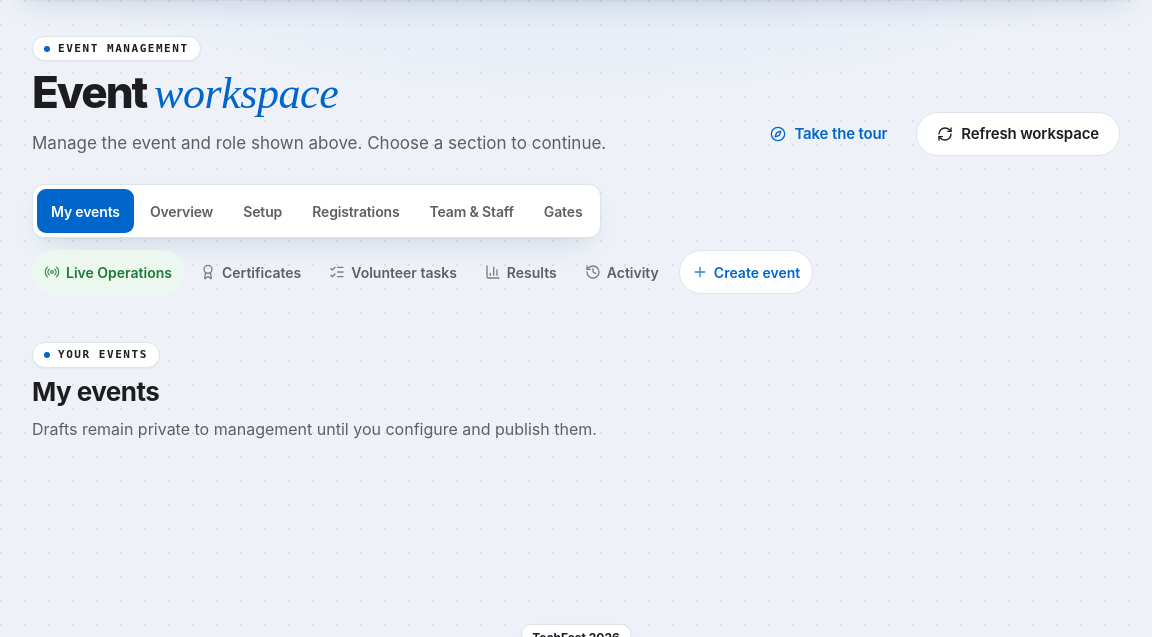
Test: P1-B workspace workflows › detects server changes on refresh, retains edits, and requires explicit review with the current version
Click the button "Setup".
click(263, 211)  # box 229,189 -> 296,233
(page scrolled)
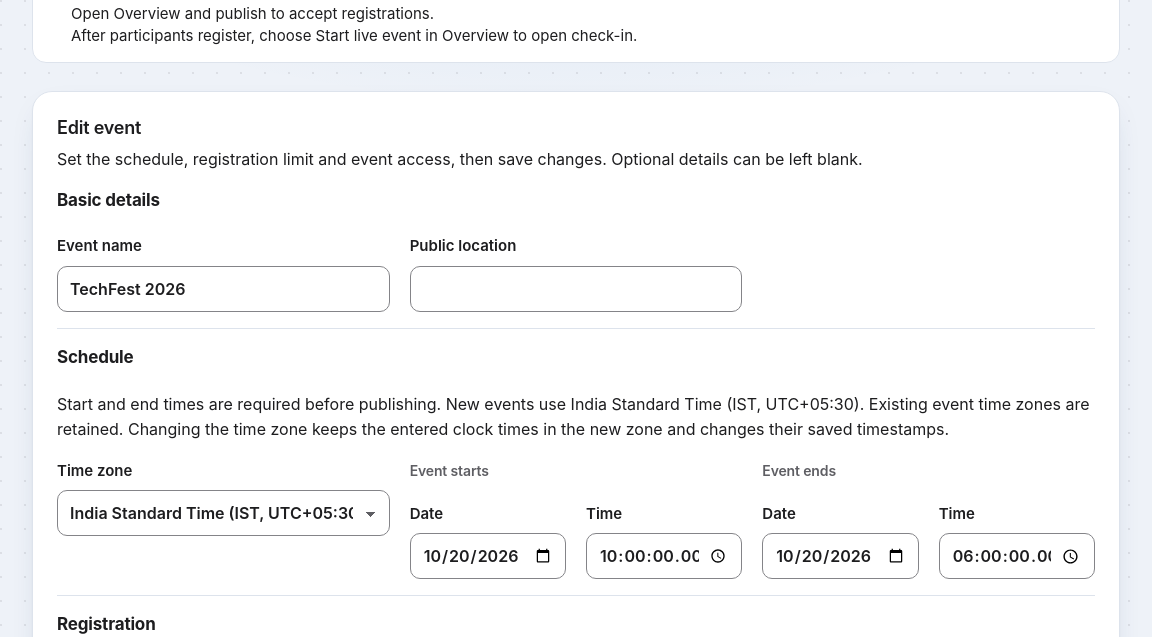
Replace the text in the field labelled "Event name" with "My edited event" at [223, 289], box 57,266 -> 390,312
(page scrolled)
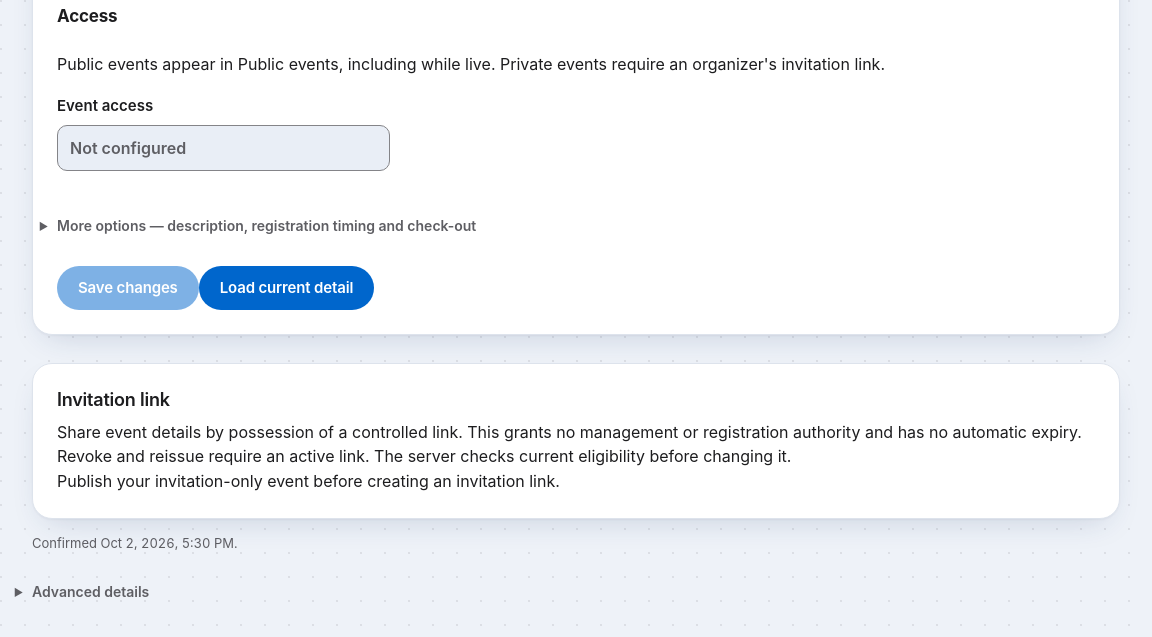
Result: the button "Save changes" is disabled at 57,266 -> 199,310
Click the button "Load current detail".
click(286, 288)  # box 199,266 -> 374,310
(page scrolled)
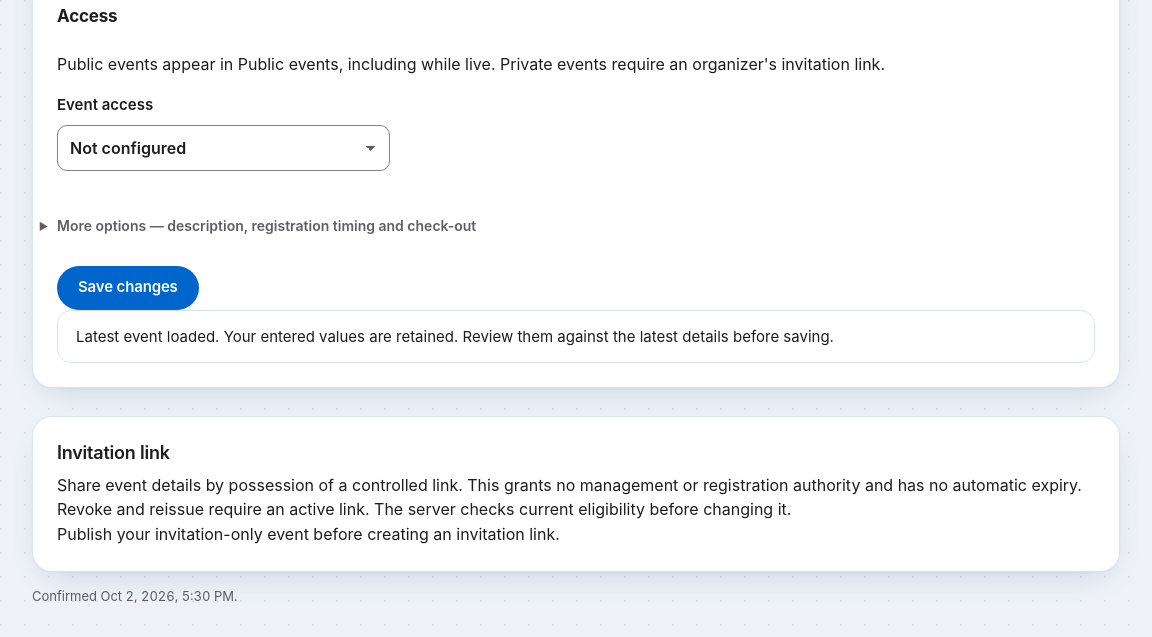
Result: the text "Latest event loaded" is shown at 76,327 -> 834,346
Click the button "Save changes".
click(128, 288)  # box 57,266 -> 199,310
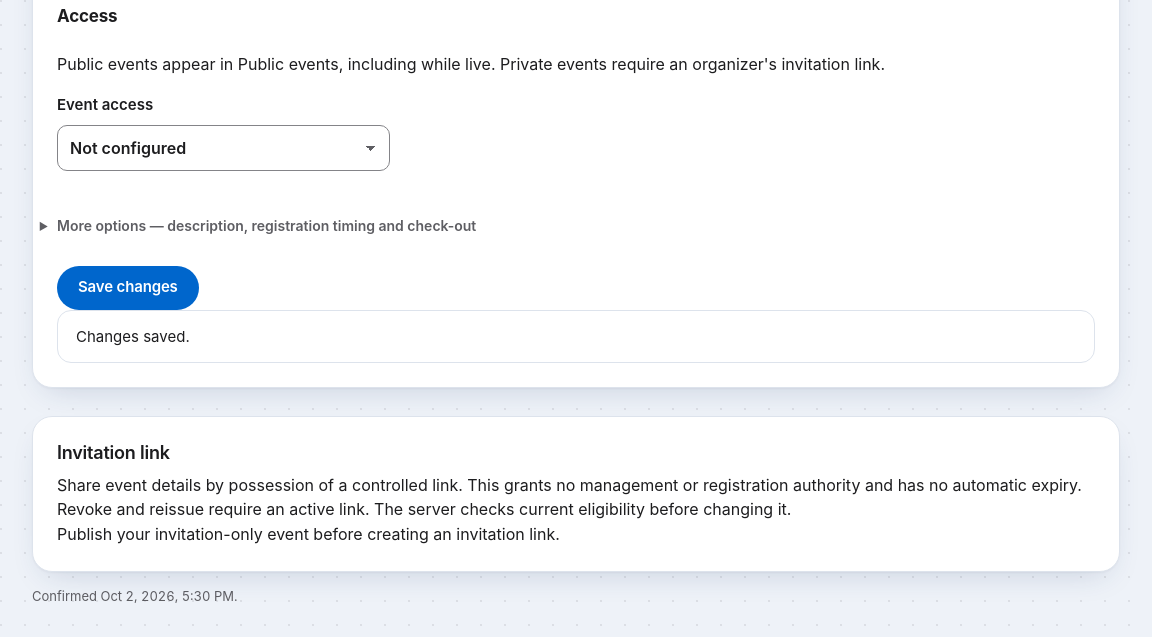
Result: the text "Changes saved." is shown at 57,310 -> 1095,363
